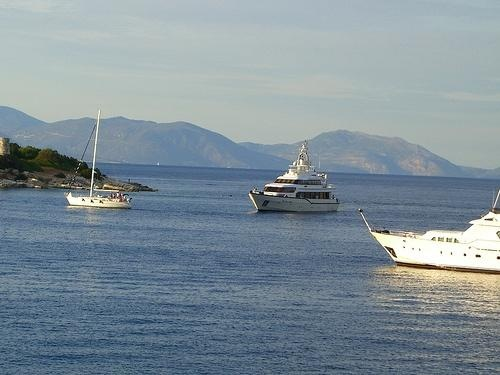boat: (356, 183, 500, 280), (60, 109, 142, 213), (246, 134, 348, 217)
